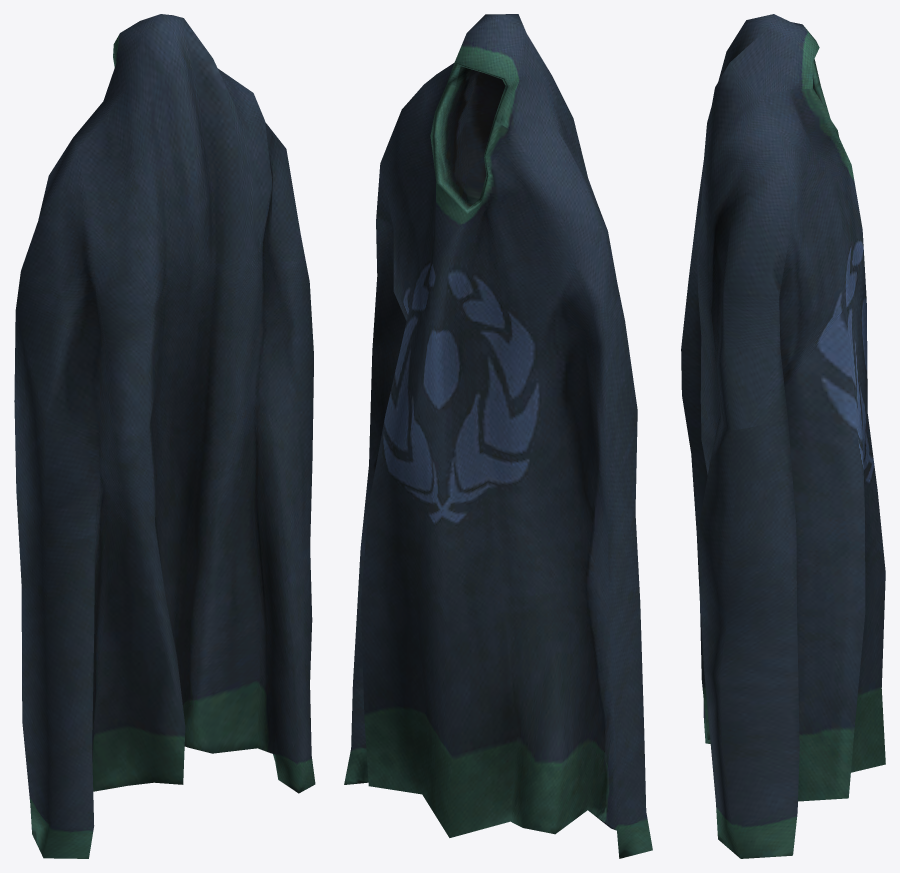
The model's file is clothing_hanging_pullover_pathos.dae.
3 renders of one model, left to right at view 1: azimuth 30°, elevation 25°; view 2: azimuth 150°, elevation 25°; view 3: azimuth 270°, elevation 25°, orthographic. The views are drawn at different scales.
Visible parts, largest first — view 1: pullover_ZBrushPolyMesh3D; view 2: pullover_ZBrushPolyMesh3D; view 3: pullover_ZBrushPolyMesh3D.
Boxes of the visible parts, x1=… form: pullover_ZBrushPolyMesh3D: x1=14, y1=14, x2=315, y2=858; pullover_ZBrushPolyMesh3D: x1=344, y1=14, x2=652, y2=858; pullover_ZBrushPolyMesh3D: x1=681, y1=14, x2=885, y2=858.
Size of the model in its own units: 0.3863 by 1.06 by 0.2503.
